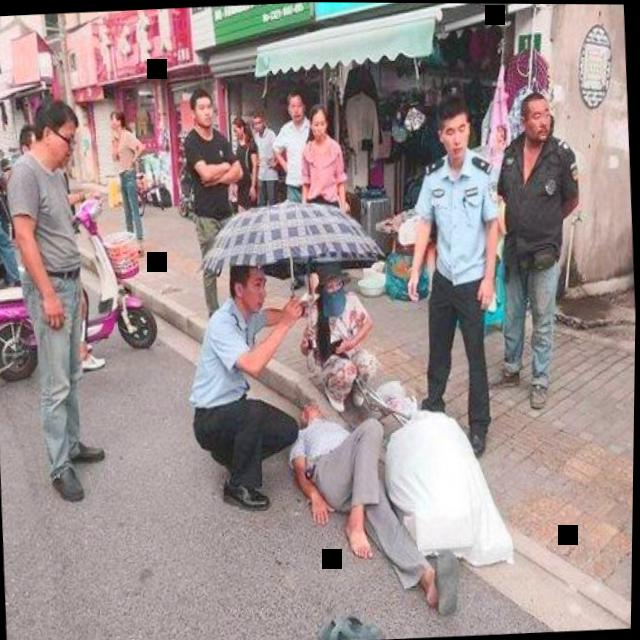Fall-Detected: (274, 385, 466, 628)
